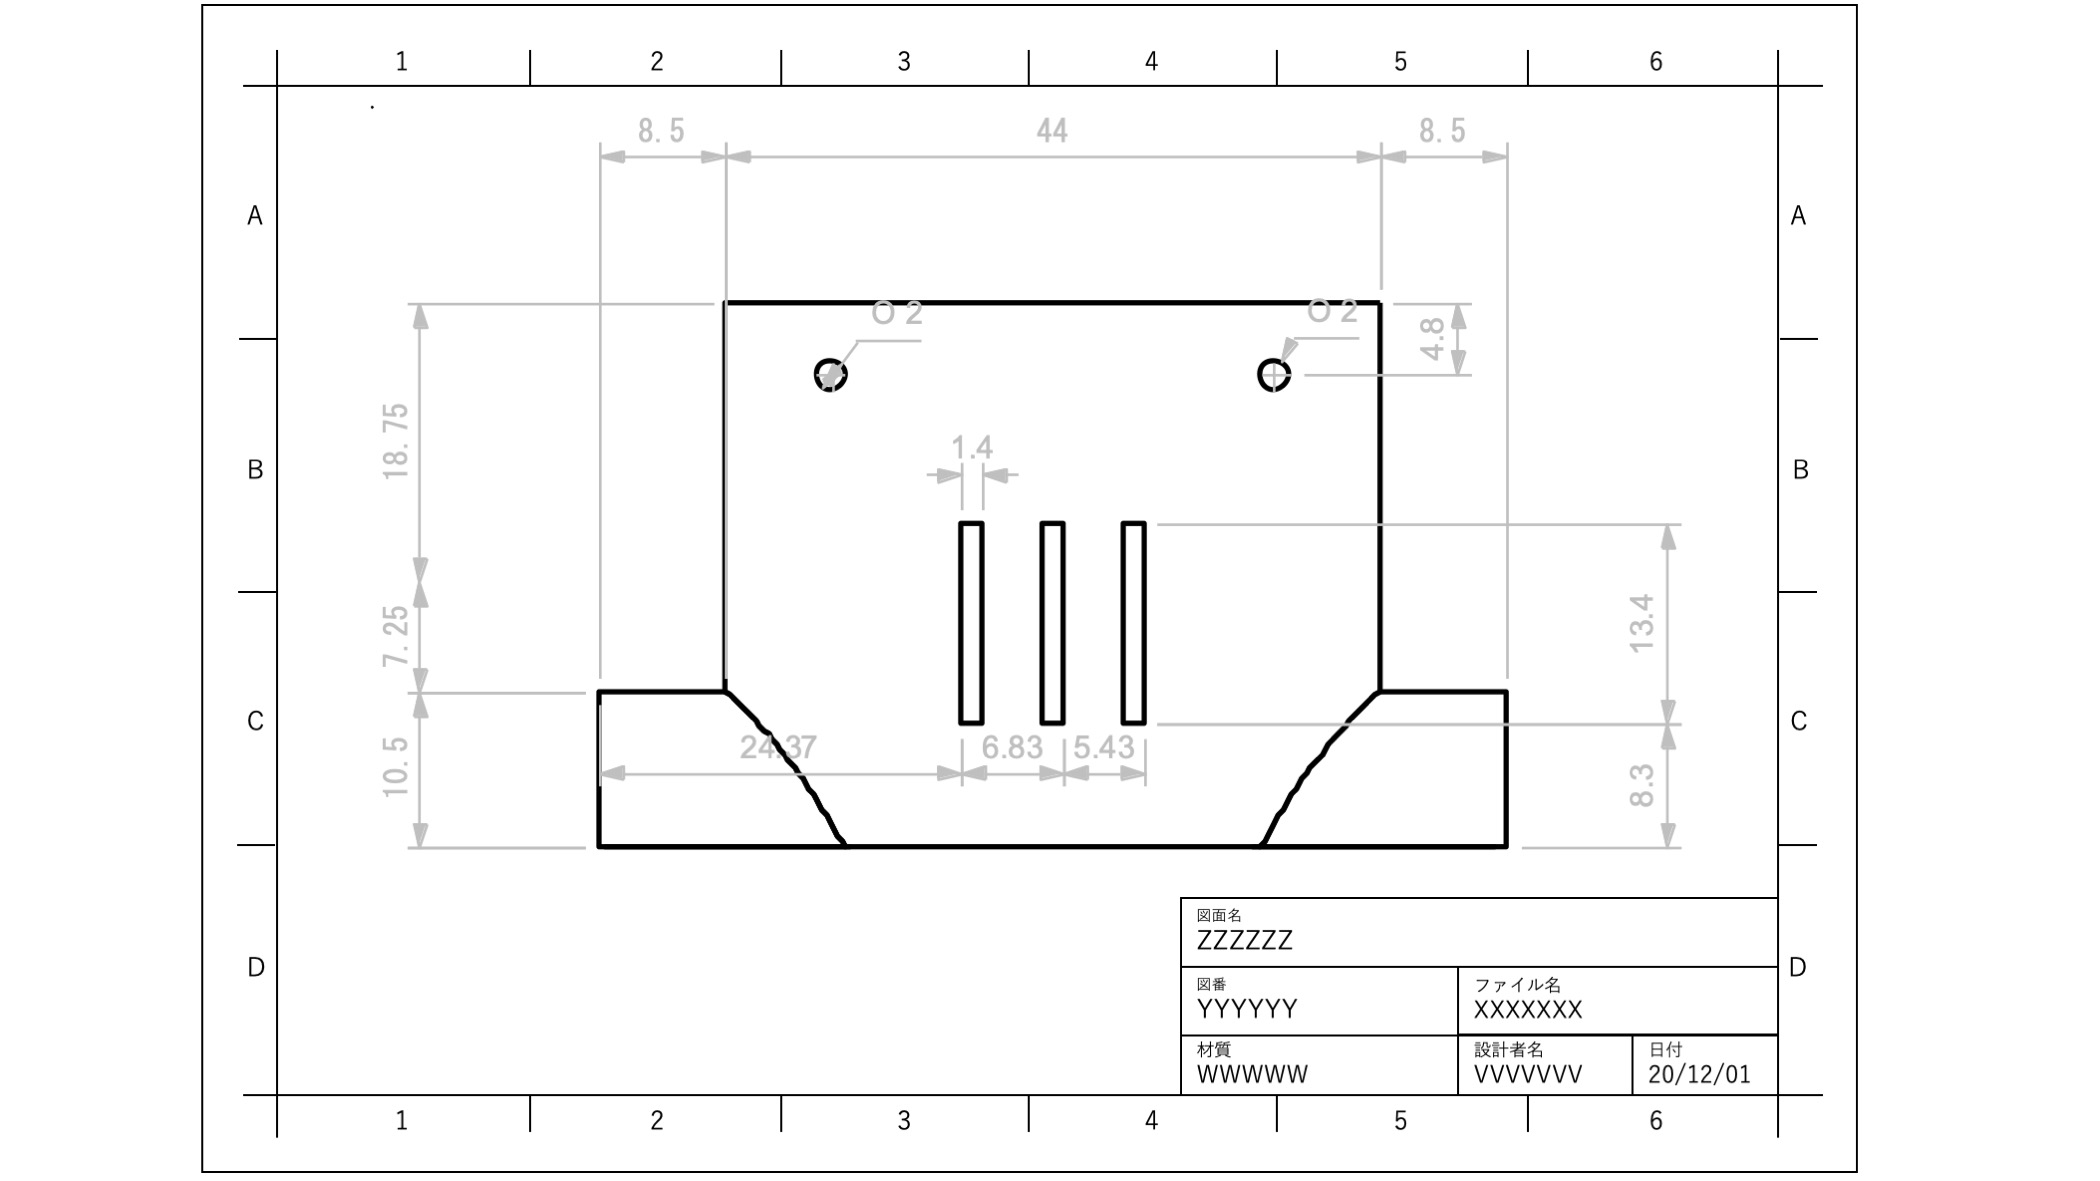circle: (1252, 340, 1294, 398), (812, 346, 850, 397)
rectangle: (1028, 505, 1077, 738), (1113, 502, 1162, 734), (945, 508, 991, 738)
